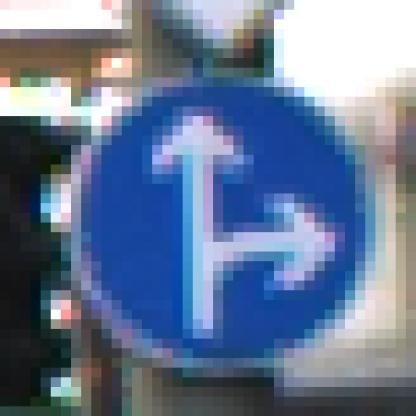Straight or Right: (62, 59, 366, 369)
